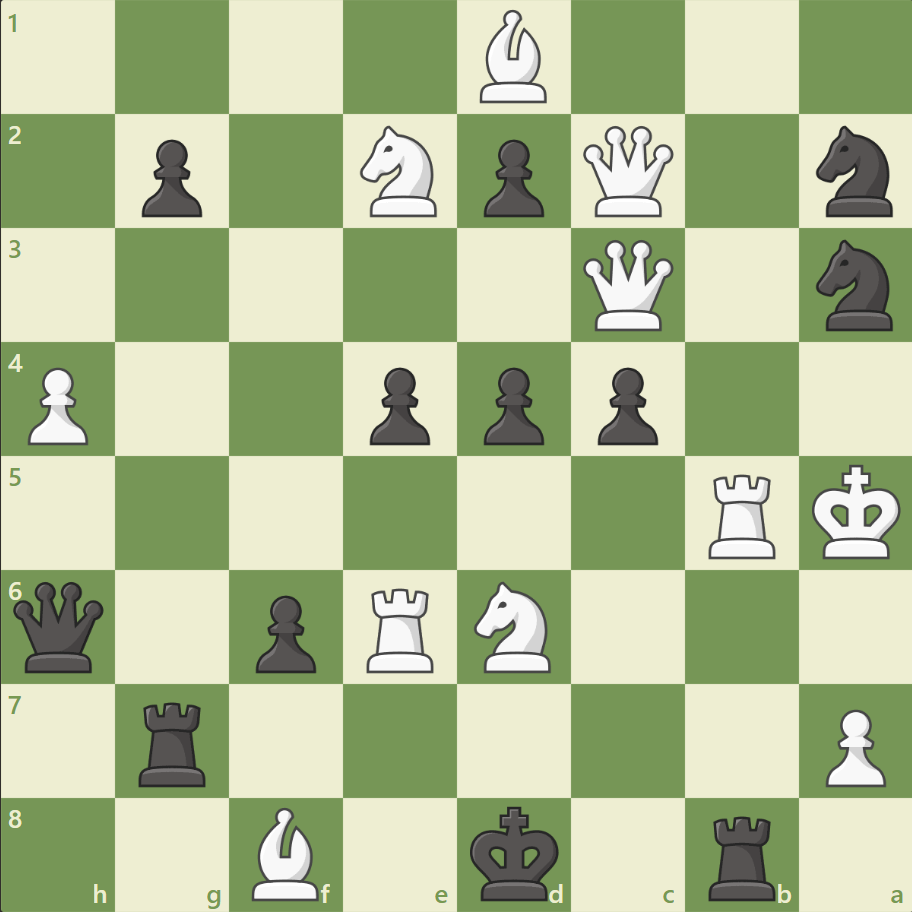B: (244, 801, 328, 904), (471, 6, 555, 109)
K: (806, 458, 906, 566)
N: (351, 121, 449, 223), (465, 575, 562, 677)
P: (20, 359, 95, 450), (815, 700, 889, 791)
Q: (578, 122, 677, 222), (578, 236, 677, 335)
R: (700, 466, 783, 563), (360, 579, 442, 676)
k: (465, 798, 565, 906)
n: (806, 234, 903, 337), (806, 121, 903, 223)
p: (247, 586, 322, 677), (474, 359, 549, 450), (474, 132, 549, 223), (133, 132, 208, 223), (588, 359, 662, 450), (361, 359, 435, 450)
q: (10, 576, 109, 676)
r: (700, 806, 783, 904), (133, 693, 215, 790)
